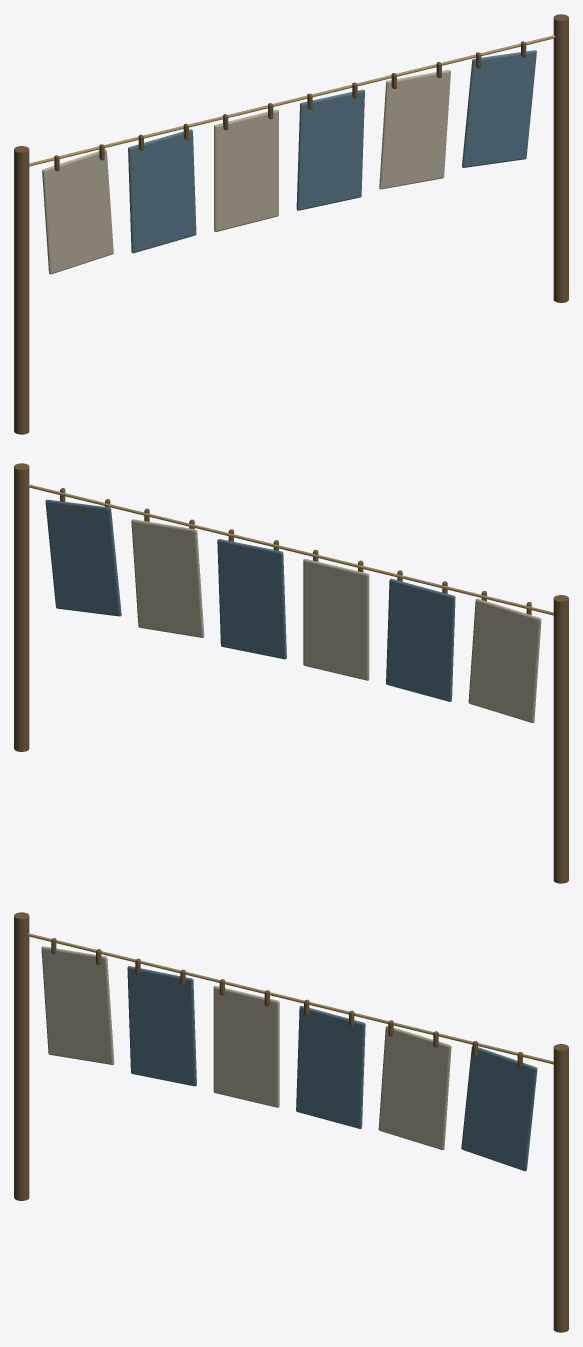
File: Clothesline.fbx
The picture shows the model from 3 angles, top to bottom: view 1: azimuth 30°, elevation 25°; view 2: azimuth 150°, elevation 25°; view 3: azimuth 330°, elevation 25°; orthographic projection.
Visible parts, largest first — view 1: Clothesline; view 2: Clothesline; view 3: Clothesline.
Part boxes in pixels (bbox=[...]): Clothesline: bbox=[14, 14, 568, 434]; Clothesline: bbox=[14, 463, 568, 883]; Clothesline: bbox=[14, 912, 568, 1332].
Size of the model in its own units: 492 by 12 by 240.
